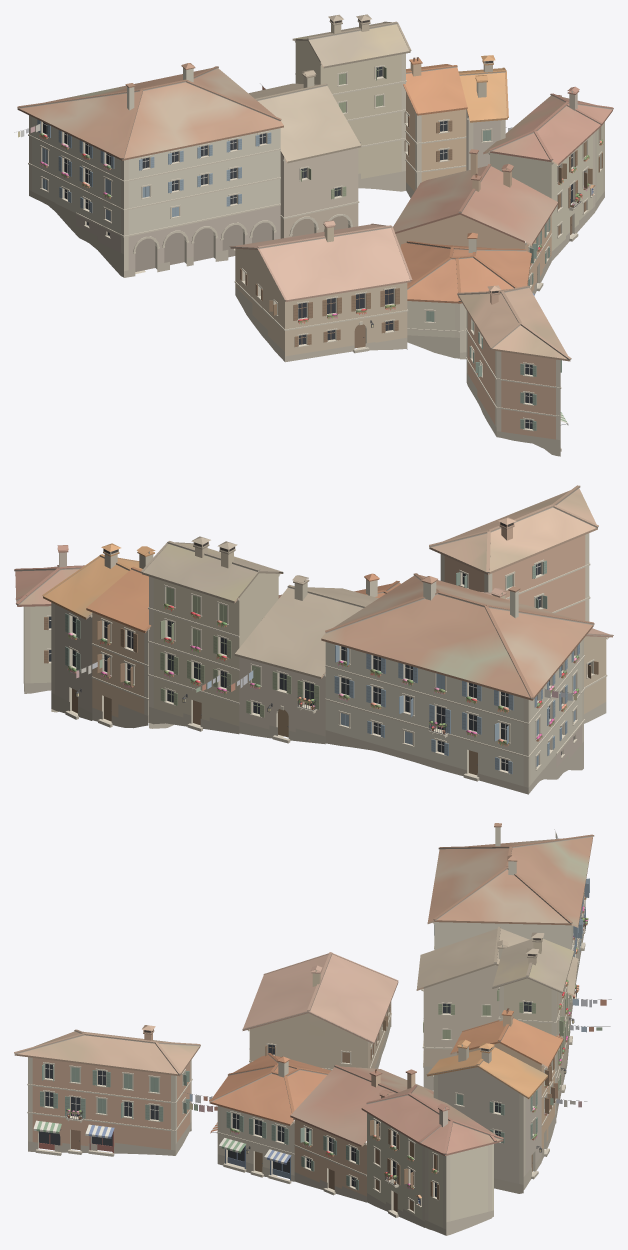
File: SM_BM_BT_blk_09.glb
3 renders of one model, top to bottom at view 1: azimuth 30°, elevation 25°; view 2: azimuth 150°, elevation 25°; view 3: azimuth 270°, elevation 25°, orthographic. The views are drawn at different scales.
Visible parts, largest first — view 1: SM_BM_BT_blk_09; view 2: SM_BM_BT_blk_09; view 3: SM_BM_BT_blk_09.
Part boxes in pixels (<box>): SM_BM_BT_blk_09: <box>14,14,613,456</box>; SM_BM_BT_blk_09: <box>14,485,613,794</box>; SM_BM_BT_blk_09: <box>14,823,611,1235</box>.
Bounding box in the file's own units: 63.67 × 27.16 × 62.31.
